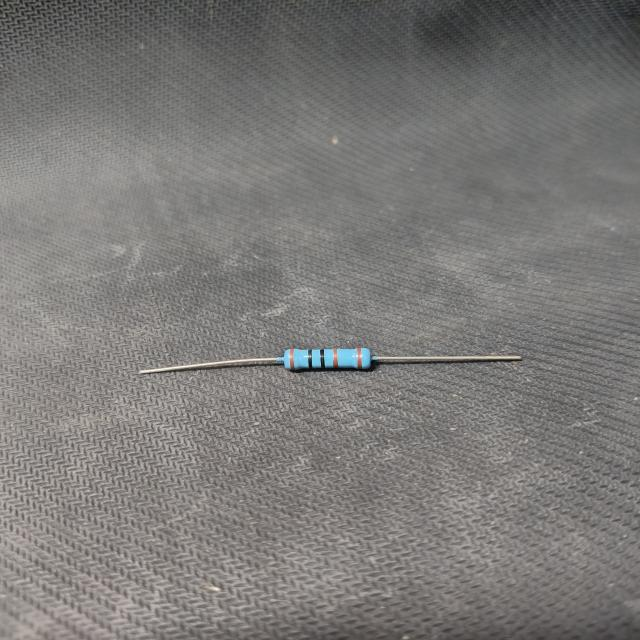resistor: (129, 336, 538, 392)
